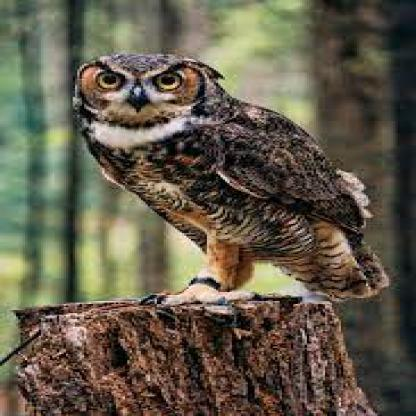owl: (52, 41, 414, 414)
